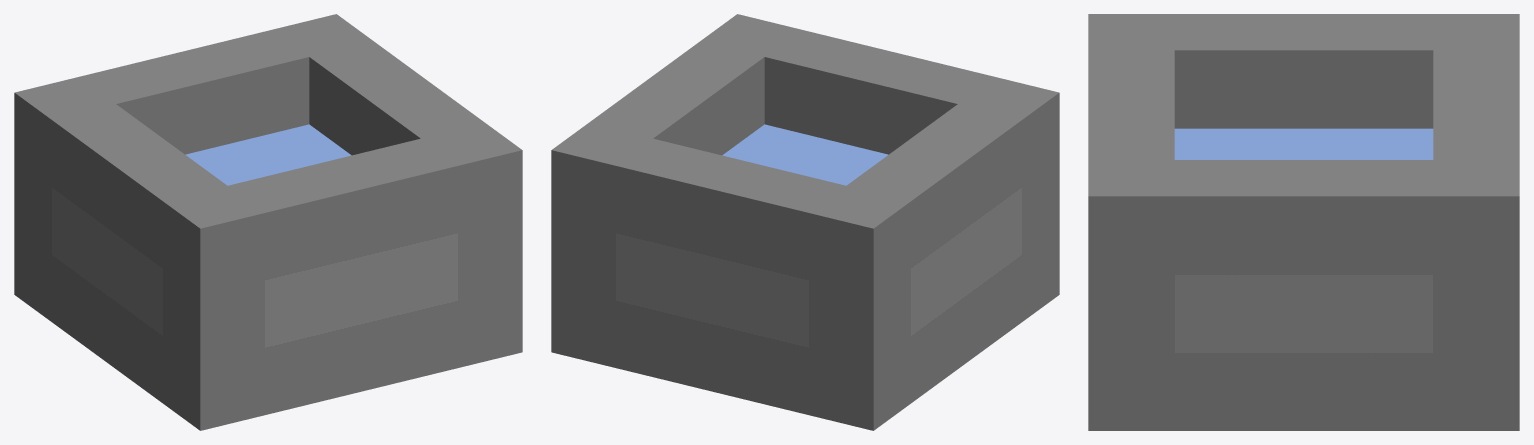
Rendered from cupblue.fbx.
3 views of the same model, side by side, from view 1: azimuth 30°, elevation 25°; view 2: azimuth 150°, elevation 25°; view 3: azimuth 270°, elevation 25° (orthographic). The views are drawn at different scales.
Parts seen in each view (by area): view 1: cupblue; view 2: cupblue; view 3: cupblue.
Part boxes in pixels (x1,y1,x2,y2): cupblue: (14,14,522,430); cupblue: (551,14,1059,430); cupblue: (1088,14,1519,430).
Size of the model in its own units: 5 by 3 by 5.
